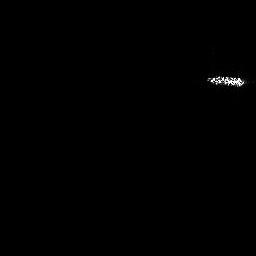ship: (205, 71, 249, 89)
